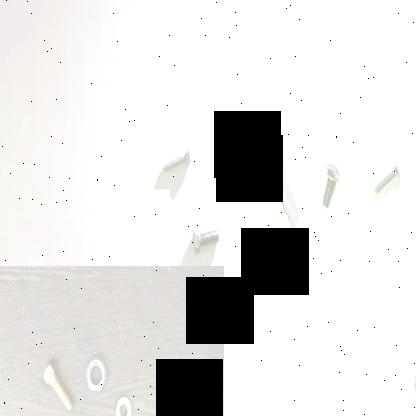Bolts: (40, 352, 74, 416), (316, 152, 342, 210), (272, 180, 298, 238), (370, 152, 400, 198), (189, 223, 221, 255), (160, 144, 194, 172)
NUTS: (83, 356, 107, 394), (112, 390, 131, 416), (408, 367, 416, 403)
